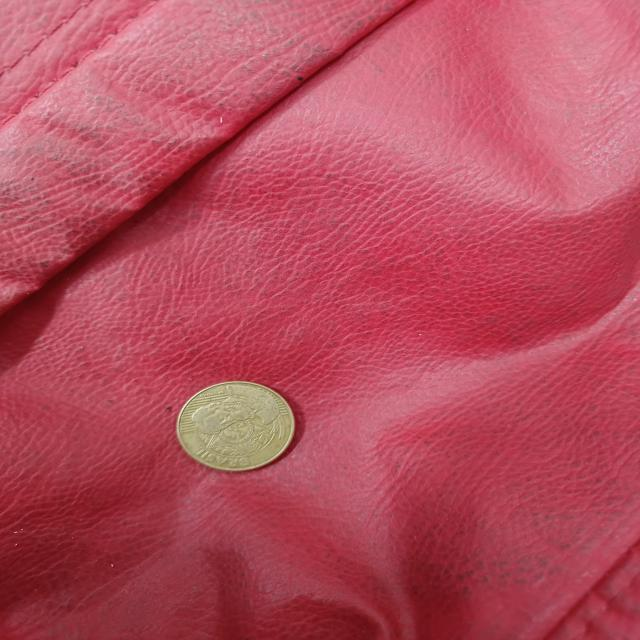25 cents: (176, 378, 302, 476)
